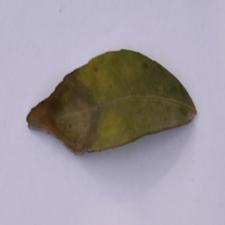Black: (24, 71, 126, 161)
